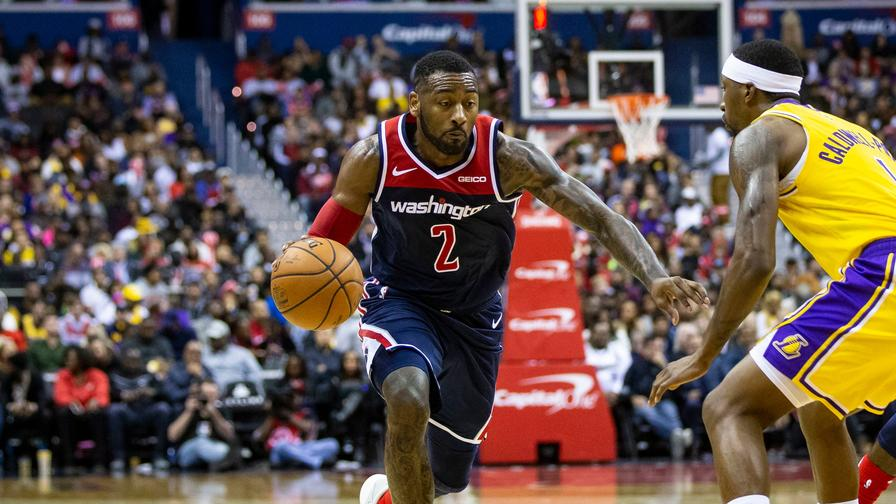Geico: (454, 172, 489, 184)
